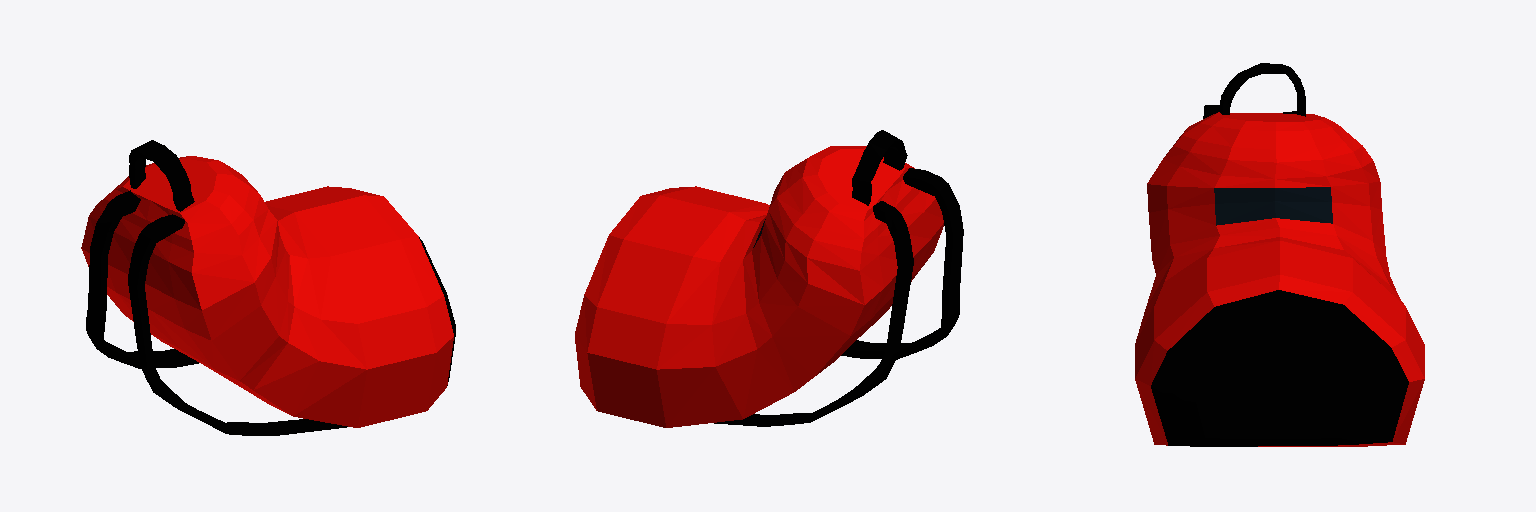
3 views of the same model, side by side, from view 1: azimuth 30°, elevation 25°; view 2: azimuth 150°, elevation 25°; view 3: azimuth 270°, elevation 25° (orthographic).
Parts seen in each view (by area): view 1: group[number redacted], group[number redacted], group[number redacted], group[number redacted]; view 2: group[number redacted], group[number redacted], group[number redacted], group[number redacted]; view 3: group[number redacted], group[number redacted].
Boxes of the visible parts, x1,y1,x2,y2 form: group[number redacted]: [81, 156, 455, 427]; group[number redacted]: [128, 214, 347, 435]; group[number redacted]: [86, 190, 198, 368]; group[number redacted]: [129, 140, 194, 211]; group[number redacted]: [575, 146, 943, 427]; group[number redacted]: [714, 201, 913, 426]; group[number redacted]: [841, 168, 963, 359]; group[number redacted]: [852, 130, 907, 205]; group[number redacted]: [1135, 112, 1424, 446]; group[number redacted]: [1220, 63, 1305, 116].
Size of the model in its own units: 0.3631 by 0.3117 by 0.29.